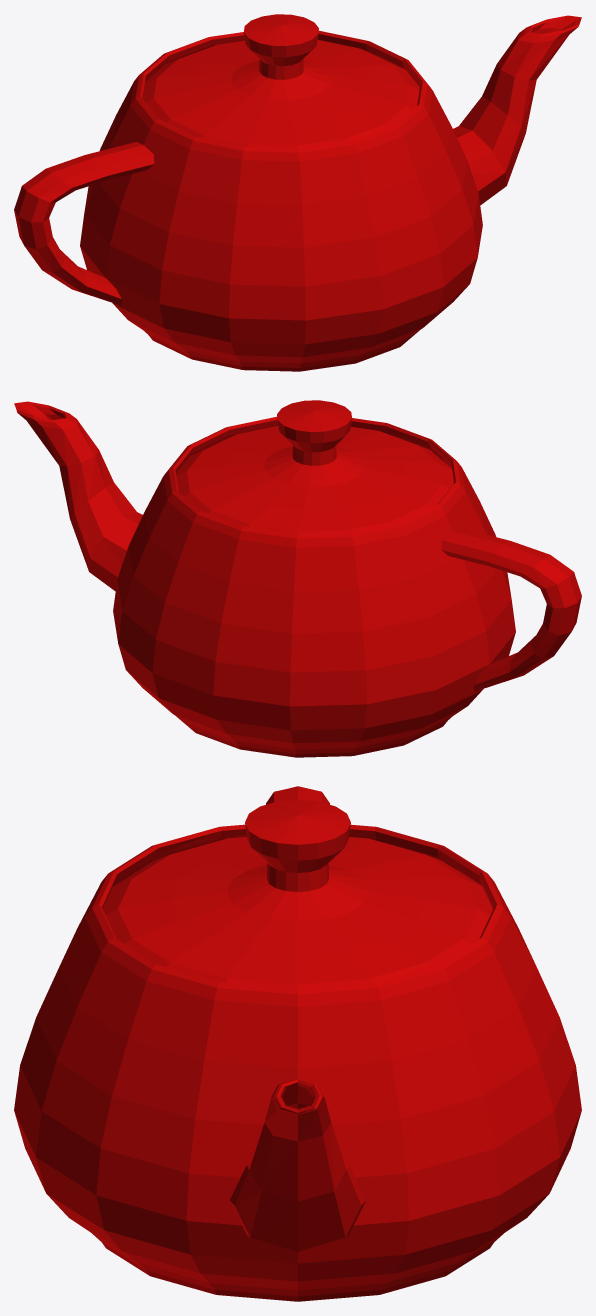
Rendered from teapotLowRes.dae.
3 renders of one model, top to bottom at view 1: azimuth 30°, elevation 25°; view 2: azimuth 150°, elevation 25°; view 3: azimuth 270°, elevation 25°, orthographic. The views are drawn at different scales.
Visible parts, largest first — view 1: TeapotLowRes; view 2: TeapotLowRes; view 3: TeapotLowRes.
Boxes of the visible parts, <box> form: TeapotLowRes: <box>14,14,581,371</box>; TeapotLowRes: <box>14,400,581,757</box>; TeapotLowRes: <box>14,786,581,1301</box>.
Size of the model in its own units: 119 by 74.36 by 59.31.
